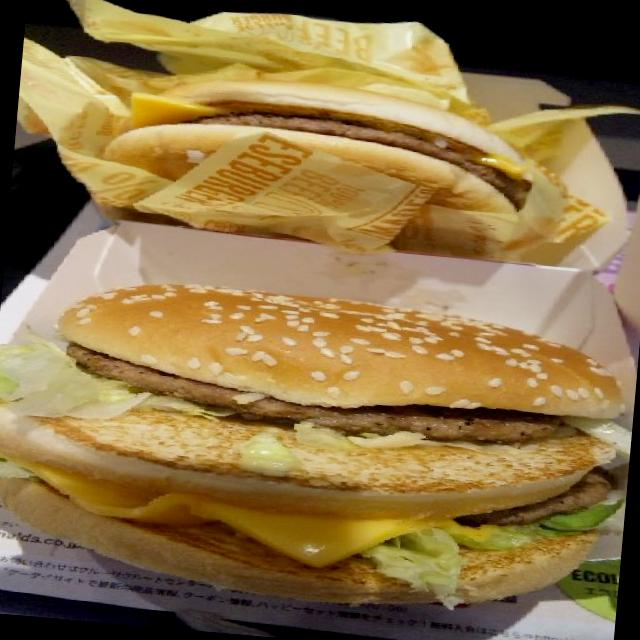Hamburger: (7, 240, 640, 619)
